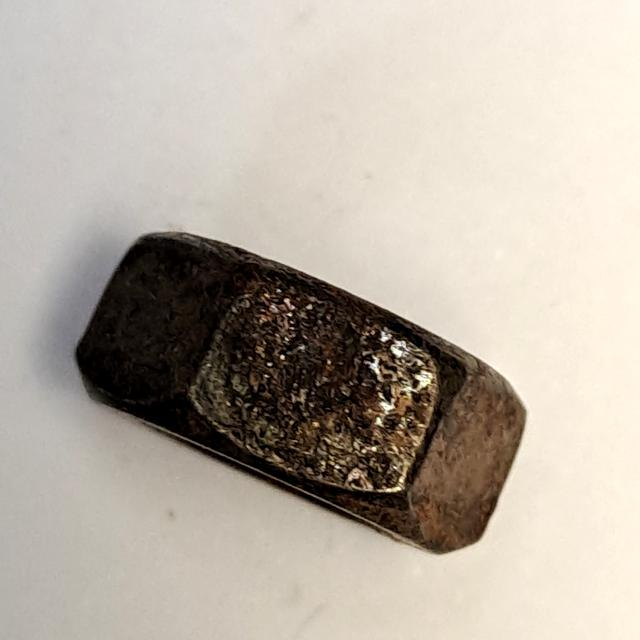Side_Rust: (46, 212, 547, 569)
